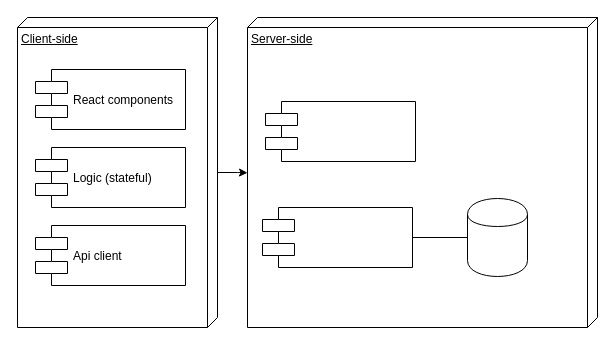
The diagram is 615 pixels wide and 345 high, and some of its shapes have lost their labels. Each missing label, with the centre of its shape:
"Express" belongs at (x=340, y=131).
"Logic (stateless)" belongs at (x=337, y=237).
"MongoDB" belongs at (x=497, y=237).
